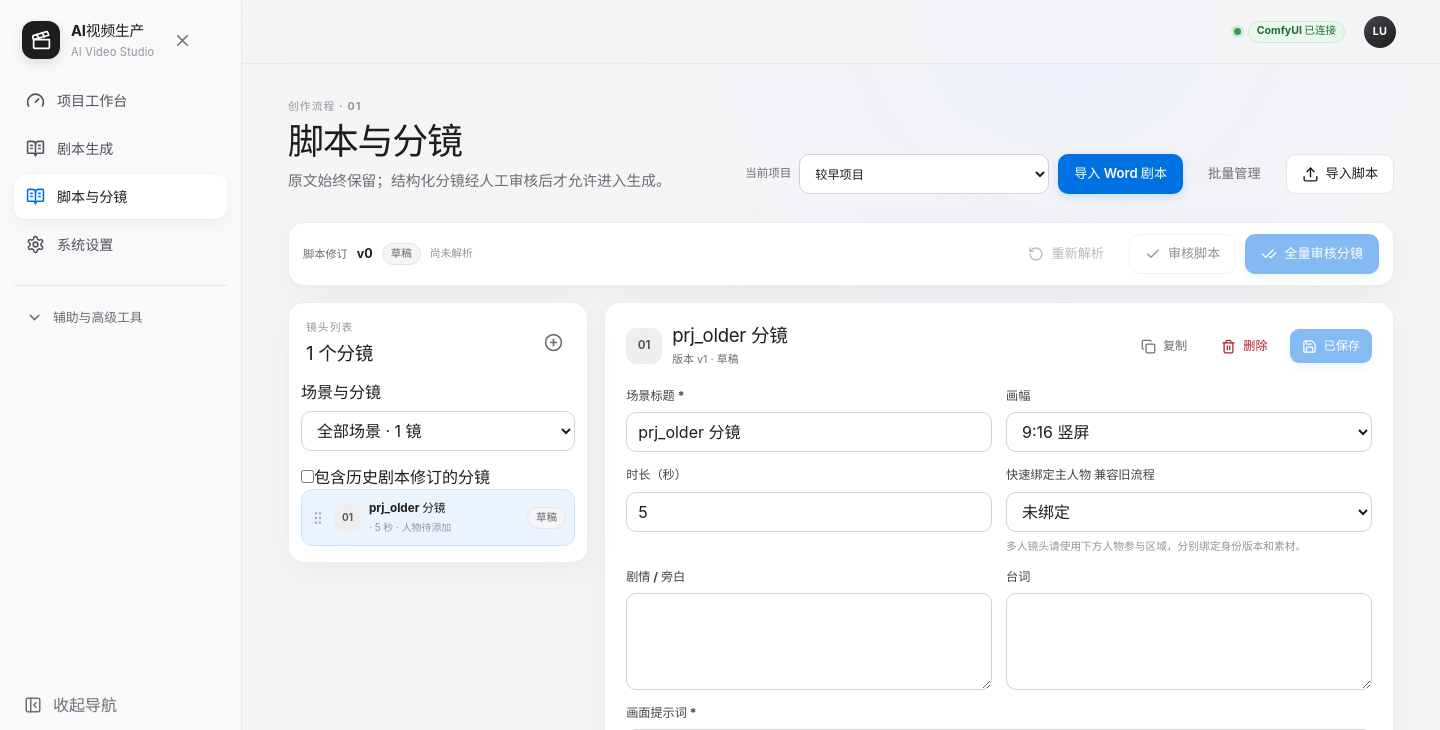
does not restore older Storyboard details when a later selected project finishes first
Expected: the field labelled "场景标题" holds "prj_older 分镜", [626,412,992,452]
Step 1. Select "最新项目" in the dropdown labelled "当前项目" → (924, 174), box [799,154,1049,194]
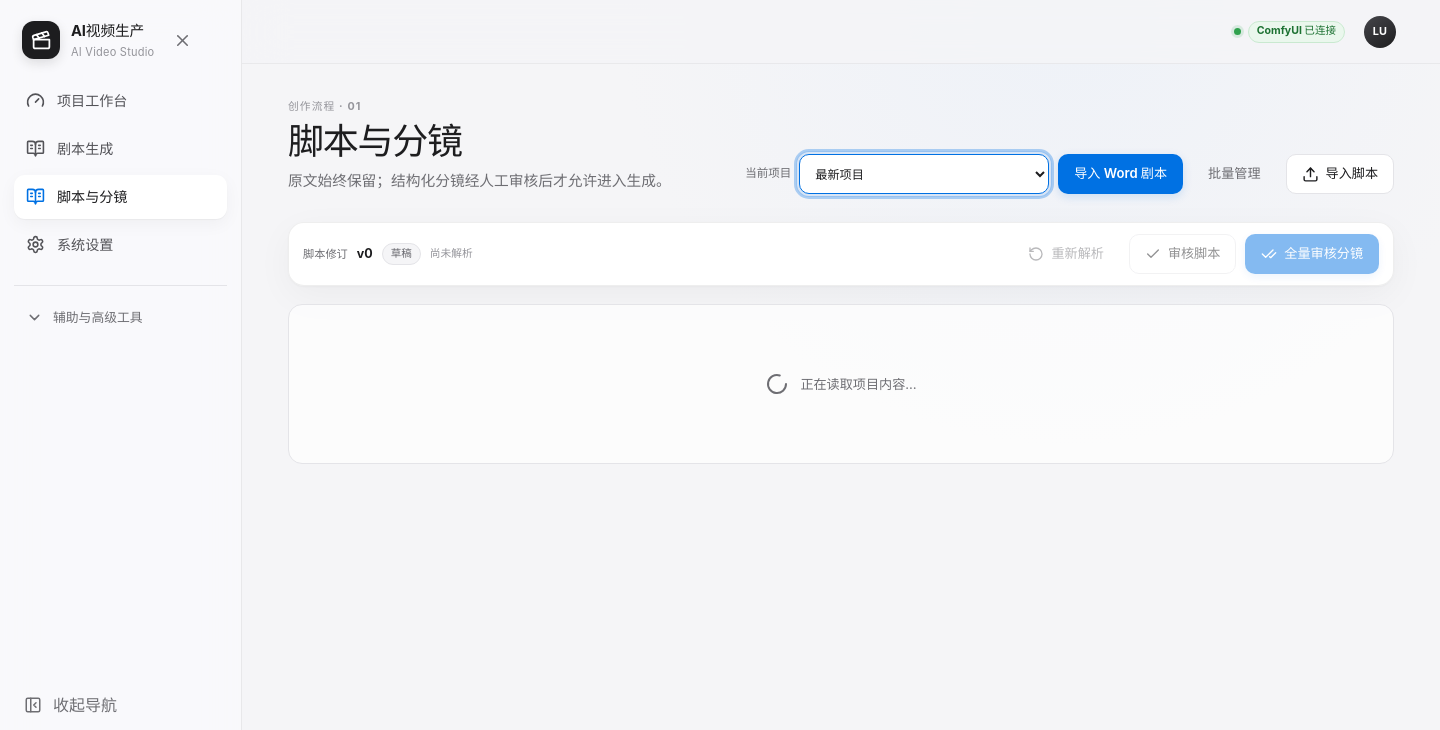
Step 2. Select "较早项目" in the dropdown labelled "当前项目" → (924, 174), box [799,154,1049,194]
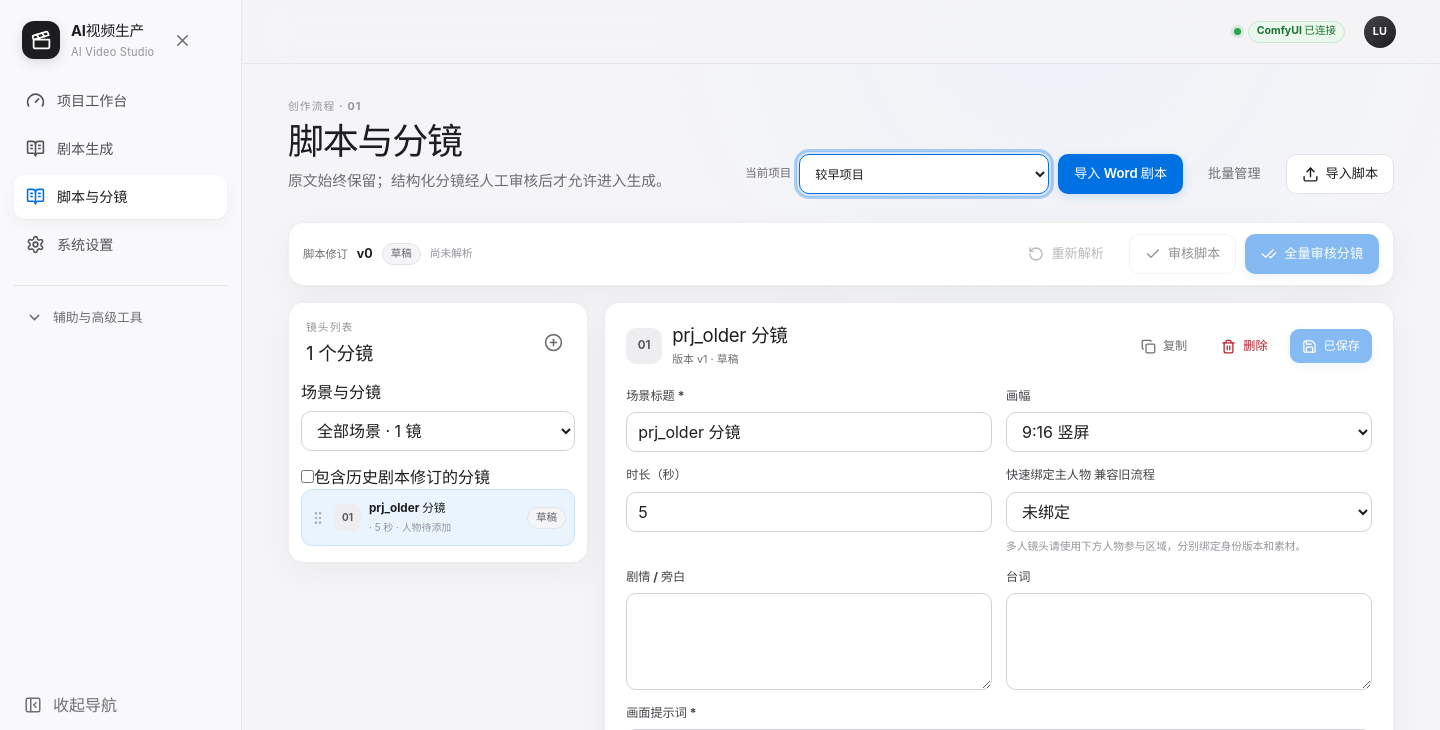
Now the field labelled "场景标题" holds "prj_older 分镜", box [626,412,992,452]
